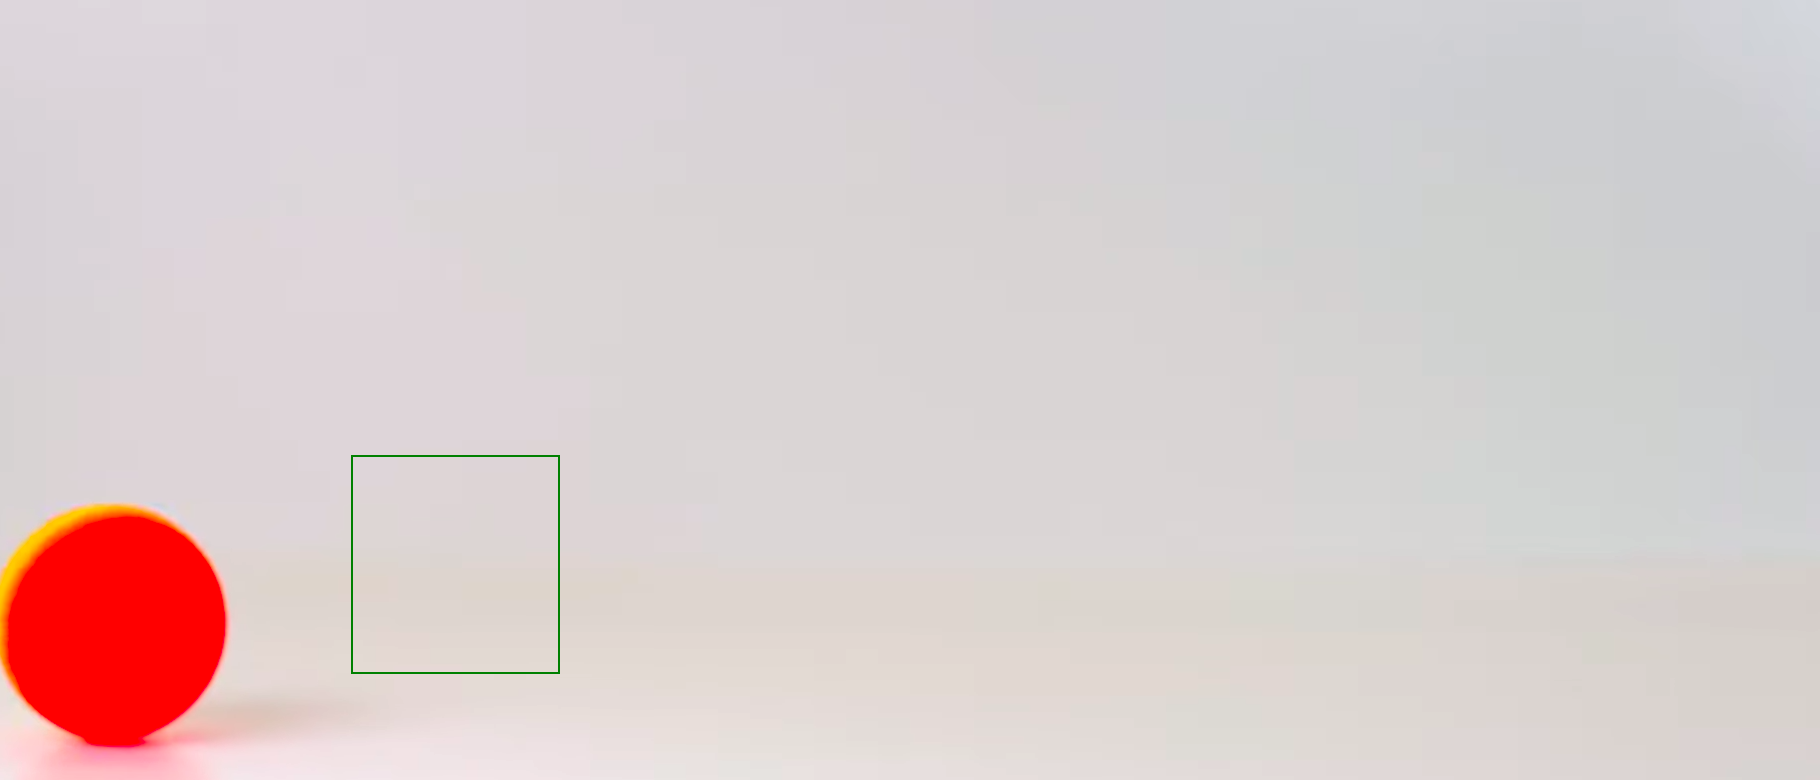Circle: (1, 508, 229, 743)
